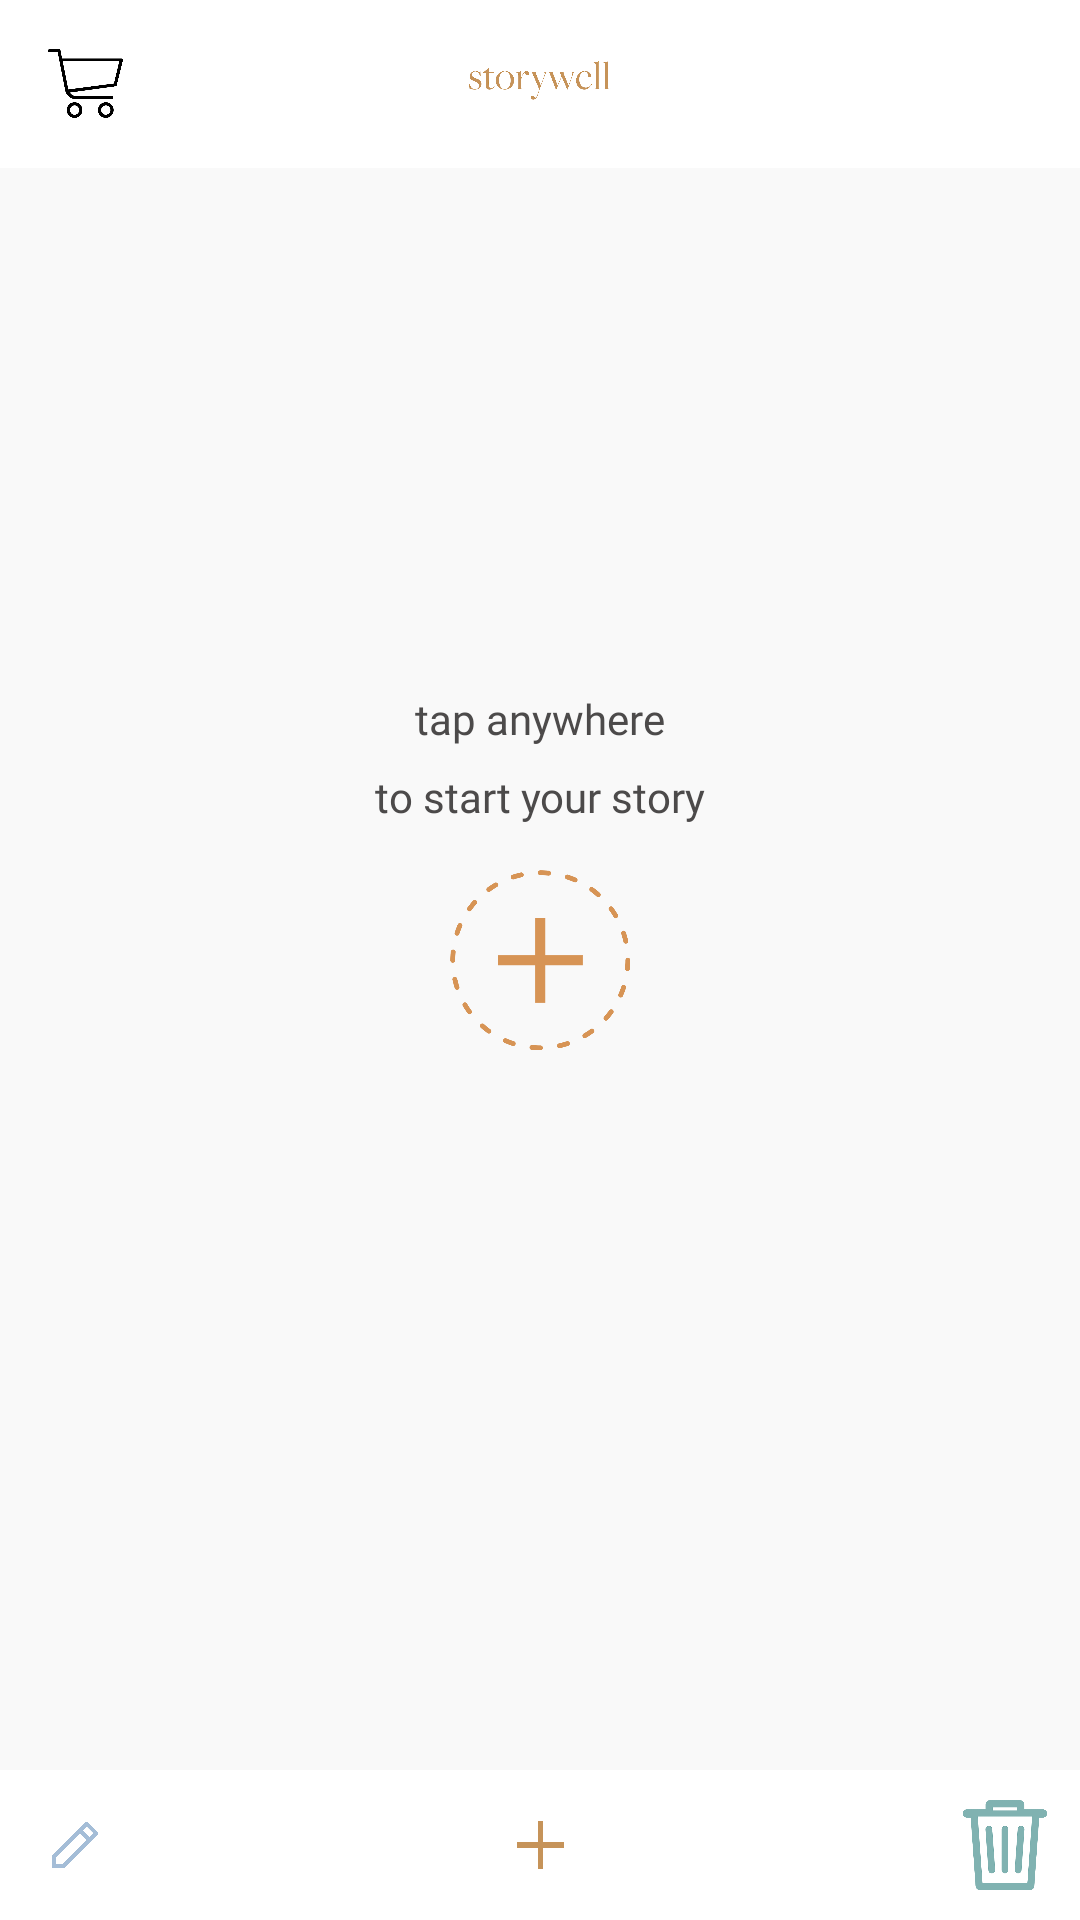

Locate icon controls on the screen. Image size 1080px×1920px, boxes as [x1=x1, y1=y1, x2=x2, y2=y2].
add story: [x1=450, y1=870, x2=630, y2=1050]
pencil: [x1=52, y1=1822, x2=98, y2=1868]
plus: [x1=517, y1=1821, x2=564, y2=1869]
shopping cart: [x1=48, y1=49, x2=123, y2=118]
trash can: [x1=963, y1=1800, x2=1047, y2=1890]
